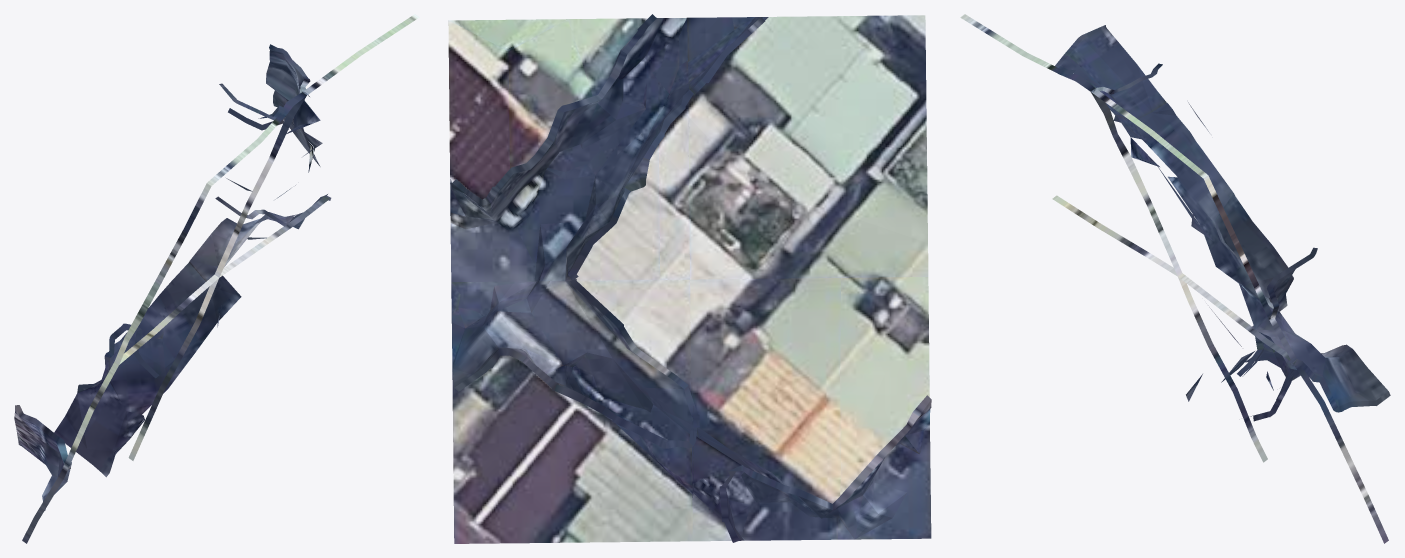
The picture shows the model from 3 angles, left to right: view 1: azimuth 30°, elevation 25°; view 2: azimuth 150°, elevation 25°; view 3: azimuth 270°, elevation 25°; orthographic projection. The views are drawn at different scales.
Bounding box in the file's own units: 38.44 × 37.31 × 32.67.
1 material, 1 textured.
